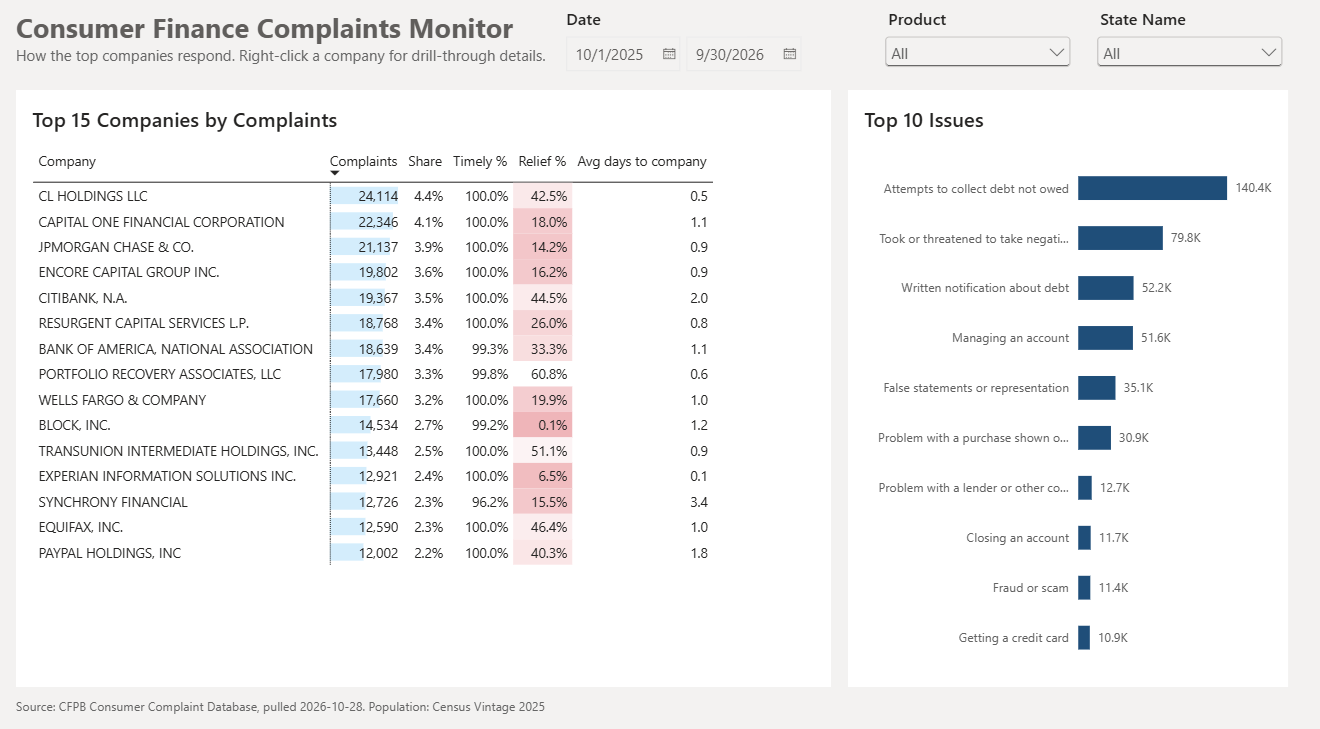

The dashboard page shown, as its layout file describes it:
{"tool":"powerbi","page":{"name":"Companies","canvas":[1920,1080],"ordinal":1},"visuals":[{"type":"slicer","fields":{"Values":["dim_Date.Date"]},"box":[548,8,300,72],"z":0},{"type":"slicer","fields":{"Values":["dim_State.State Name"]},"box":[1072,8,192,72],"z":1000},{"type":"slicer","fields":{"Values":["dim_Product.Product"]},"box":[864,8,192,72],"z":2000},{"type":"tableEx","title":"Top 15 Companies by Complaints","fields":{"Values":["dim_Company.Company","_Measures.Complaints","_Measures.% of All Complaints","_Measures.Timely Response %","_Measures.Relief %","_Measures.Avg Days to Company"]},"box":[16,88,800,586],"z":3000},{"type":"textbox","box":[16,8,520,63],"z":4000},{"type":"textbox","box":[16,684,1248,28],"z":5000},{"type":"clusteredBarChart","title":"Top 10 Issues","fields":{"Category":["dim_Issue.Issue"],"Y":["_Measures.Complaints"]},"box":[832,88,432,586],"z":6000}]}

Visuals, with their boxes in screenshot pixels (x1, y1, x2, y2), scaled from the page's 1920x1080 canvas onto the 1320x729 screenshot:
slicer - dim_Date.Date: 377, 5, 583, 54
slicer - dim_State.State Name: 737, 5, 869, 54
slicer - dim_Product.Product: 594, 5, 726, 54
"Top 15 Companies by Complaints" tableEx: 11, 59, 561, 455
textbox: 11, 5, 368, 48
textbox: 11, 462, 869, 481
"Top 10 Issues" clusteredBarChart: 572, 59, 869, 455
